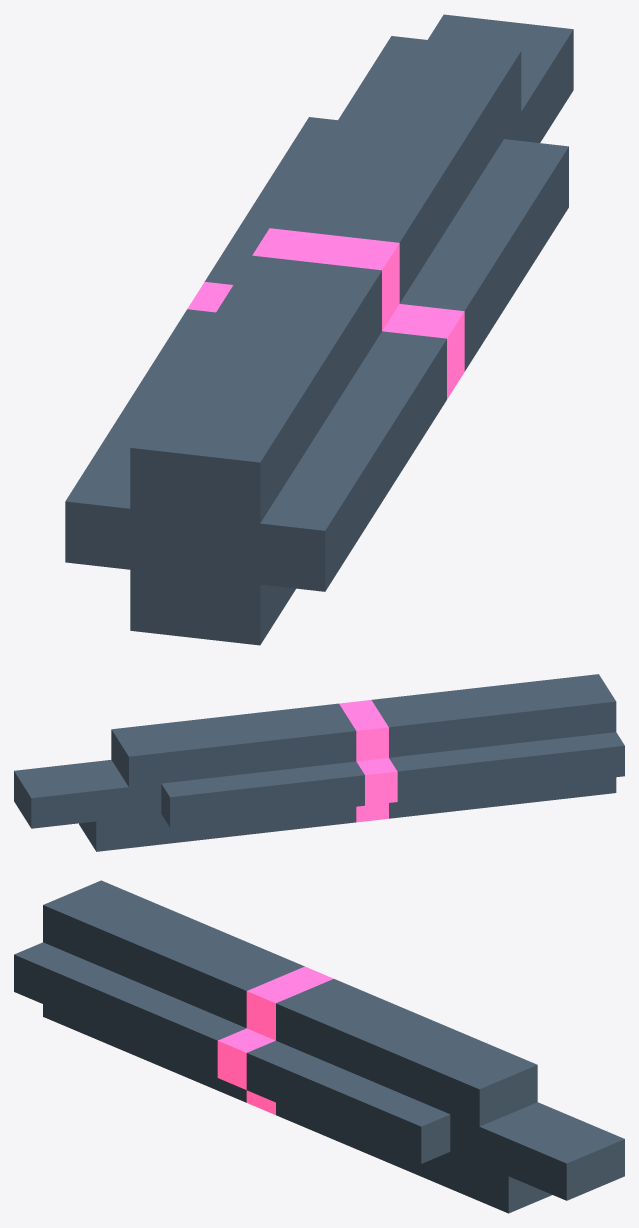
The model's file is item_STYLUS.glb.
The picture shows the model from 3 angles, top to bottom: view 1: azimuth 30°, elevation 25°; view 2: azimuth 150°, elevation 25°; view 3: azimuth 270°, elevation 25°; orthographic projection. The views are drawn at different scales.
Visible parts, largest first — view 1: item_STYLUS; view 2: item_STYLUS; view 3: item_STYLUS.
Boxes of the visible parts, x1,y1,x2,y2 form: item_STYLUS: [65, 14, 573, 645]; item_STYLUS: [14, 674, 624, 851]; item_STYLUS: [14, 880, 624, 1213].
Bounding box in the file's own units: 0.3375 × 0.0682 × 0.3375.
1 material, 1 textured.
